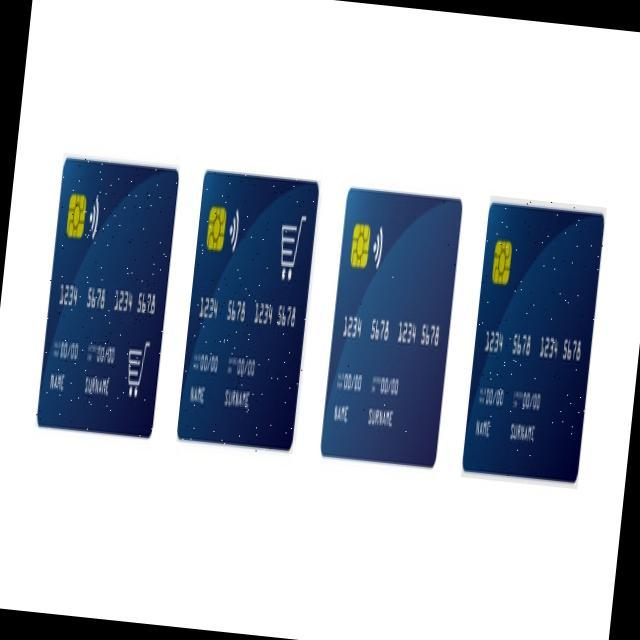payment_card: (461, 195, 607, 484), (35, 155, 178, 438), (176, 168, 319, 451), (319, 185, 462, 468)
